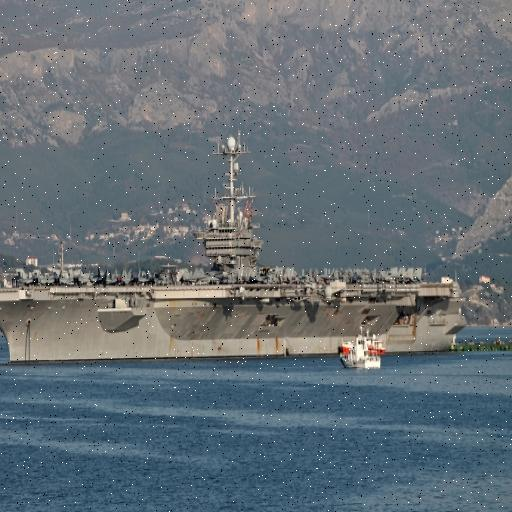Portanaves: (1, 127, 471, 367)
